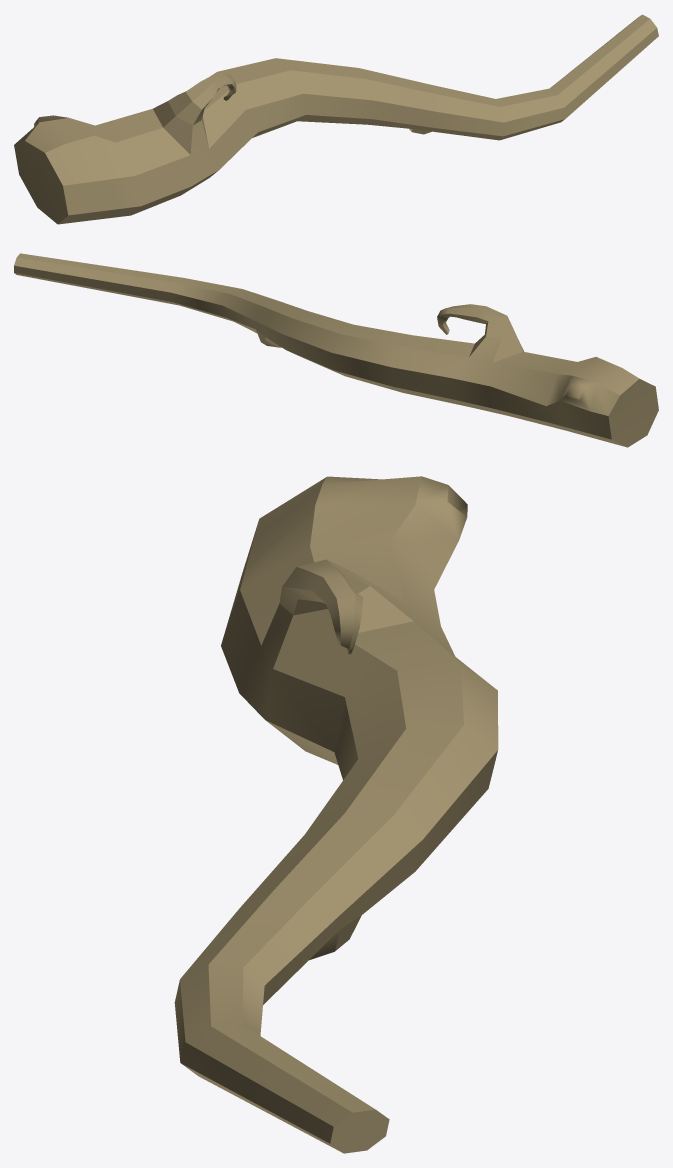
File: tutorial branch vr 2.fbx
The picture shows the model from 3 angles, top to bottom: view 1: azimuth 30°, elevation 25°; view 2: azimuth 150°, elevation 25°; view 3: azimuth 270°, elevation 25°; orthographic projection. The views are drawn at different scales.
Parts seen in each view (by area): view 1: polySurface1; view 2: polySurface1; view 3: polySurface1.
Part boxes in pixels (bbox=[...]): polySurface1: bbox=[14, 14, 658, 224]; polySurface1: bbox=[14, 253, 658, 447]; polySurface1: bbox=[174, 476, 498, 1153].
Size of the model in its own units: 19.94 by 3.12 by 4.54.
